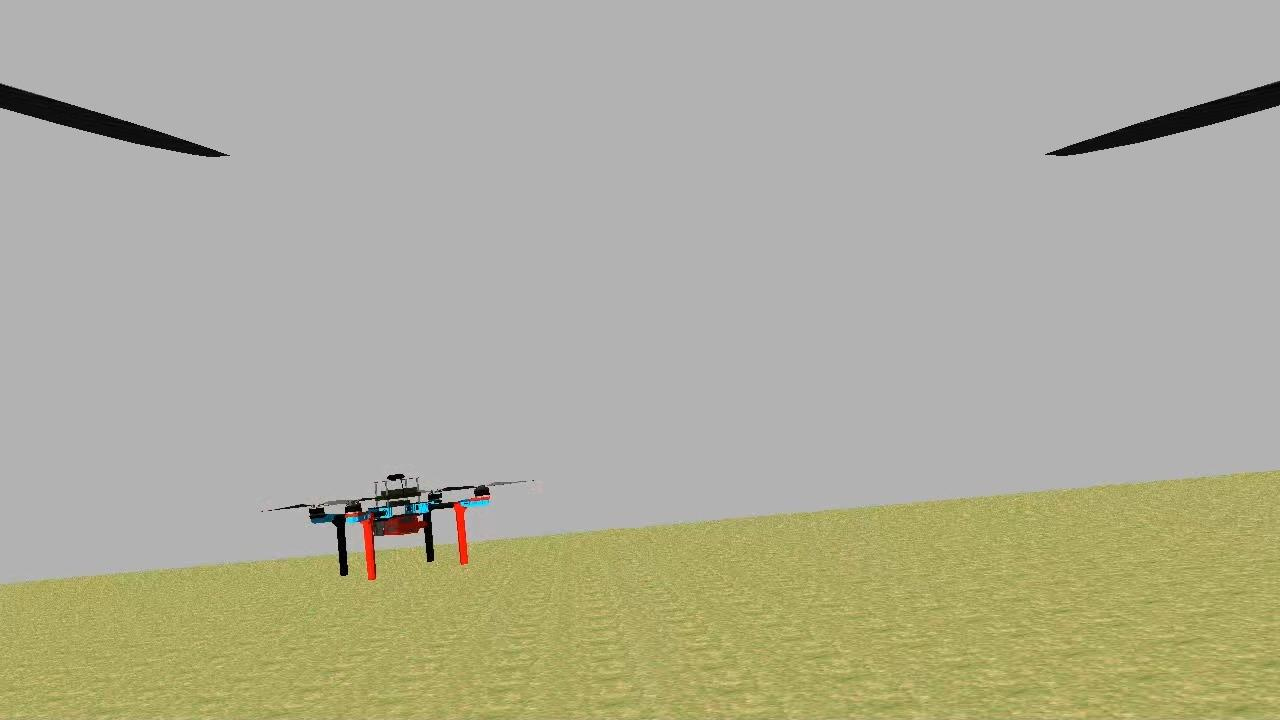UAV: (310, 466, 496, 582)
